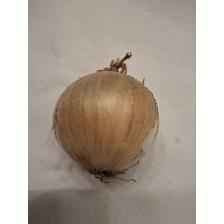Zwiebel: (49, 48, 161, 188)
